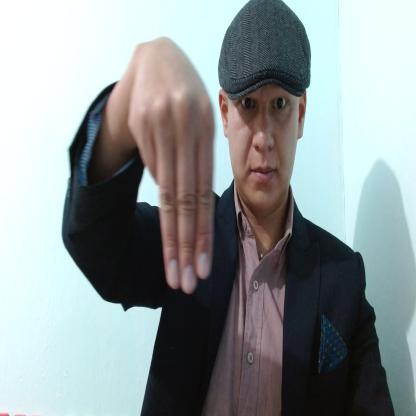M: (128, 36, 215, 292)
